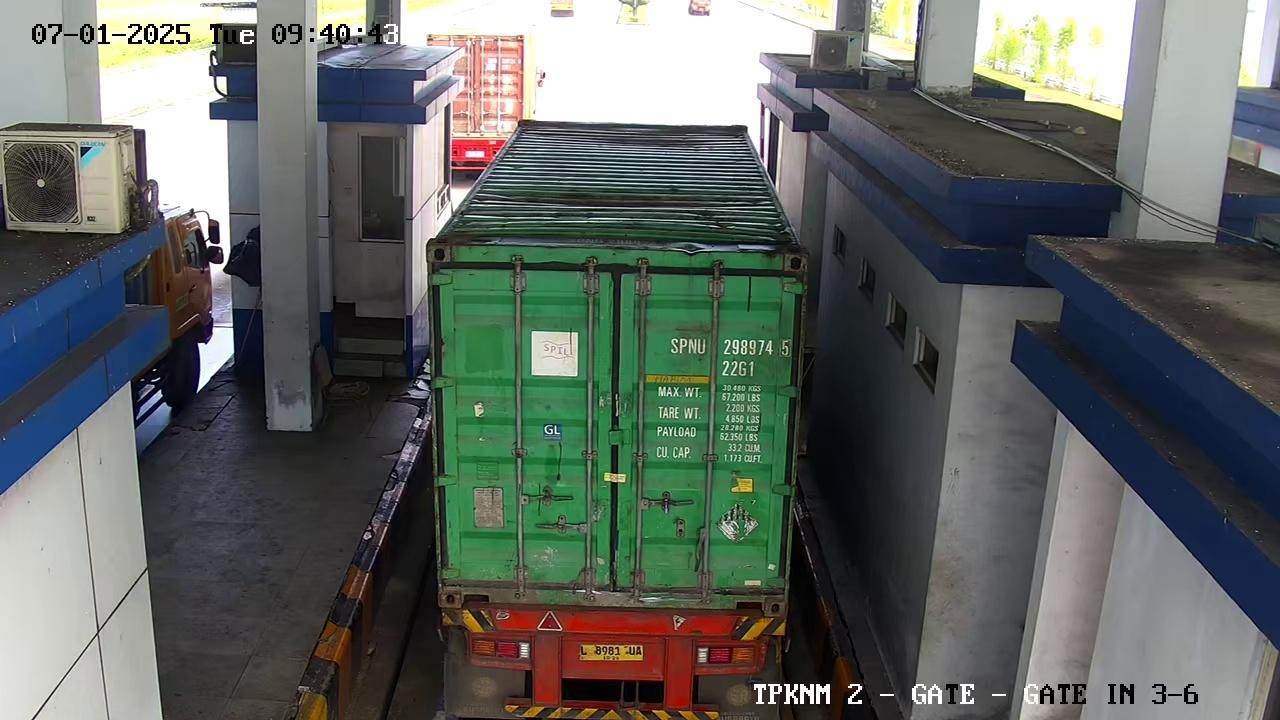Container_ID: (648, 325, 807, 385)
plate_number: (566, 633, 657, 675)
